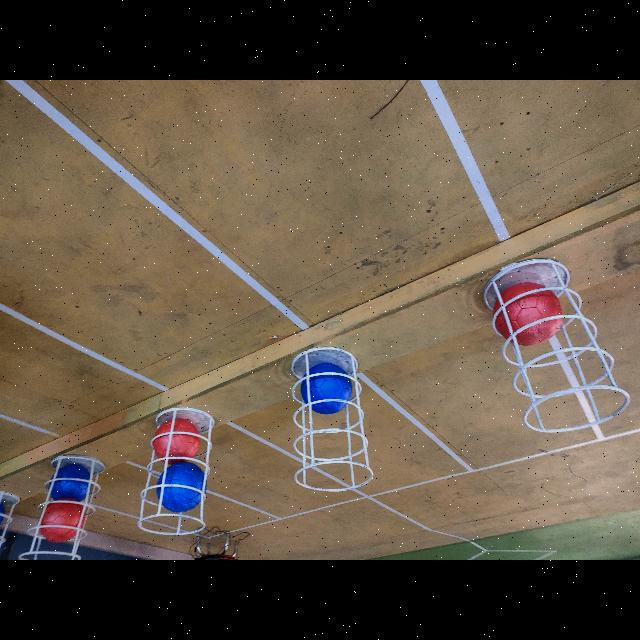B: (300, 362, 352, 414), (157, 462, 206, 514), (51, 466, 90, 502), (1, 497, 4, 533)
R: (491, 282, 563, 346), (151, 416, 199, 466), (40, 501, 86, 544)
